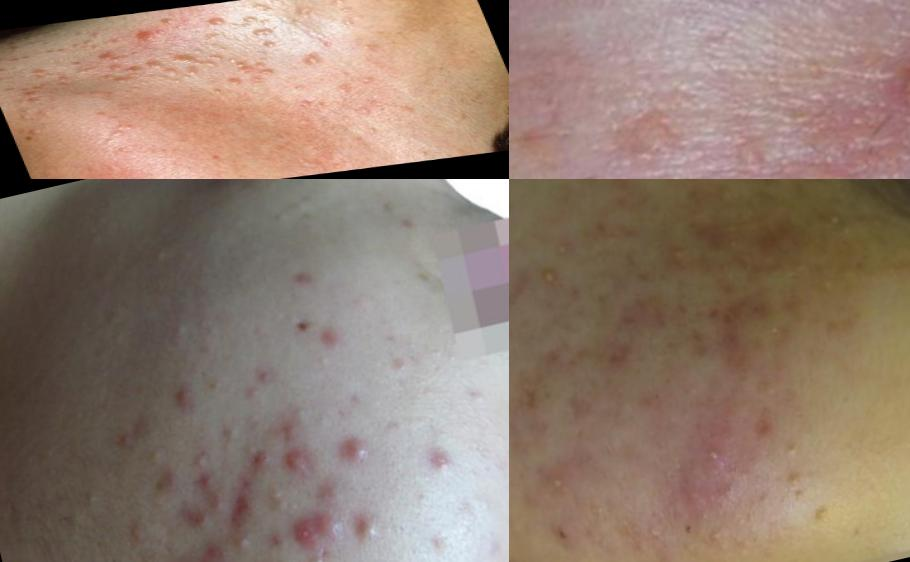acne_scars: (707, 287, 759, 368), (606, 289, 678, 340)
flat_wart: (597, 96, 697, 180), (776, 129, 908, 180)
keloid: (241, 14, 280, 41), (202, 12, 236, 30), (167, 49, 198, 67)
papular: (280, 497, 358, 558), (330, 426, 389, 484), (269, 442, 325, 491), (161, 375, 210, 421), (414, 440, 464, 485), (668, 473, 711, 521), (237, 438, 280, 478), (358, 503, 392, 549), (269, 418, 308, 457), (309, 322, 350, 358), (179, 505, 214, 539), (192, 463, 226, 497), (699, 436, 729, 472), (134, 19, 182, 41), (181, 544, 232, 562)
whitehead: (222, 506, 270, 556), (531, 463, 574, 513), (773, 465, 819, 510), (259, 477, 300, 519), (818, 191, 858, 233), (767, 421, 810, 460), (141, 228, 178, 272), (650, 236, 696, 271), (121, 511, 158, 552), (526, 256, 570, 290), (797, 503, 839, 538), (164, 317, 202, 352), (188, 433, 219, 475), (73, 480, 104, 522), (700, 519, 735, 552), (424, 530, 456, 562), (239, 377, 273, 407), (215, 420, 245, 451), (149, 437, 177, 468), (288, 398, 316, 428), (212, 49, 248, 70), (314, 348, 342, 374), (318, 1, 360, 16), (310, 409, 336, 433), (411, 489, 434, 513), (304, 544, 330, 562)
